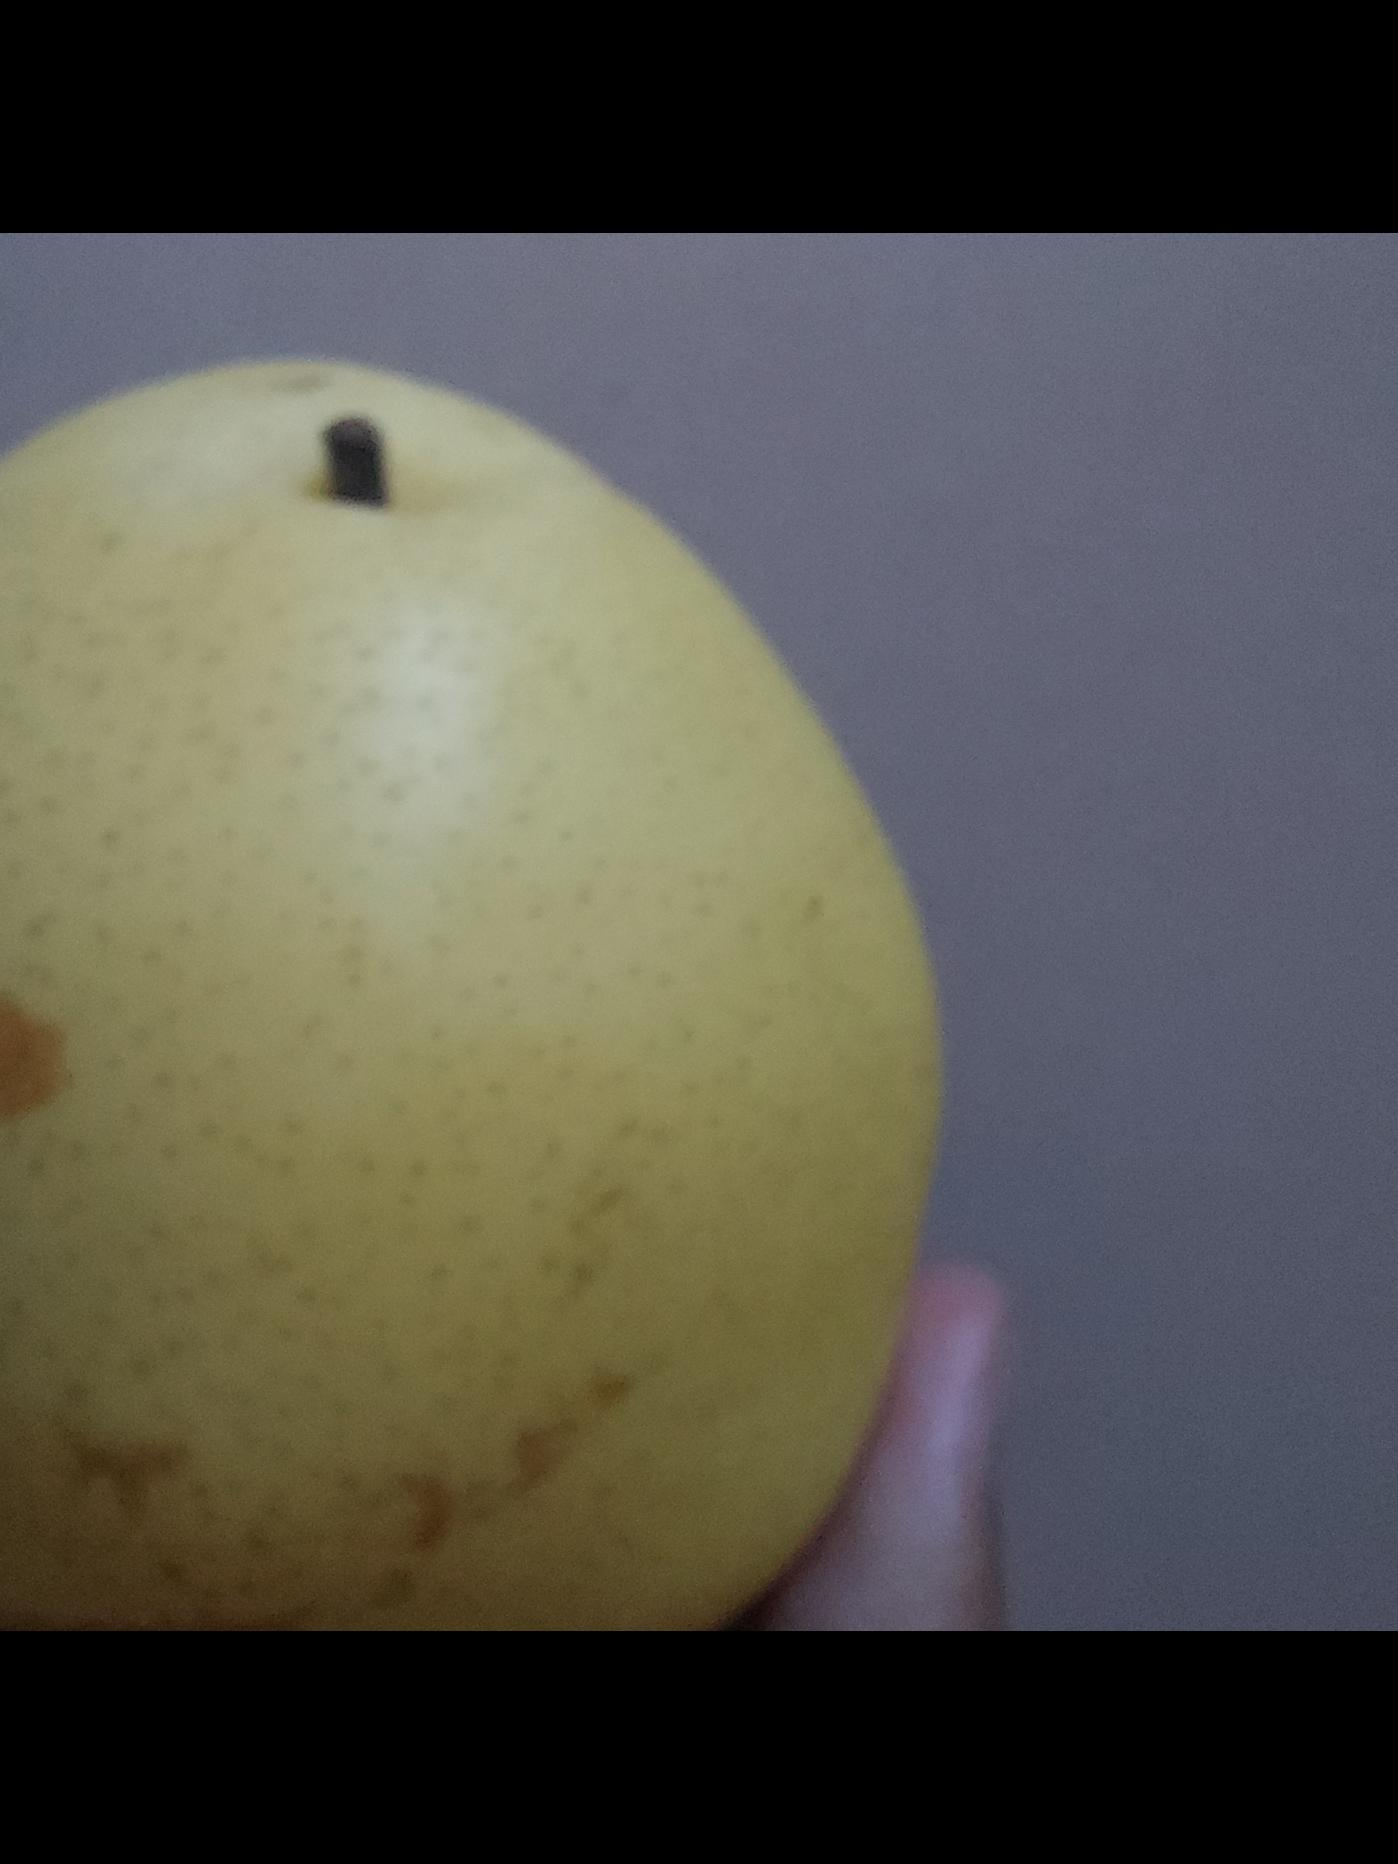Good Pear: (0, 323, 938, 1631)
